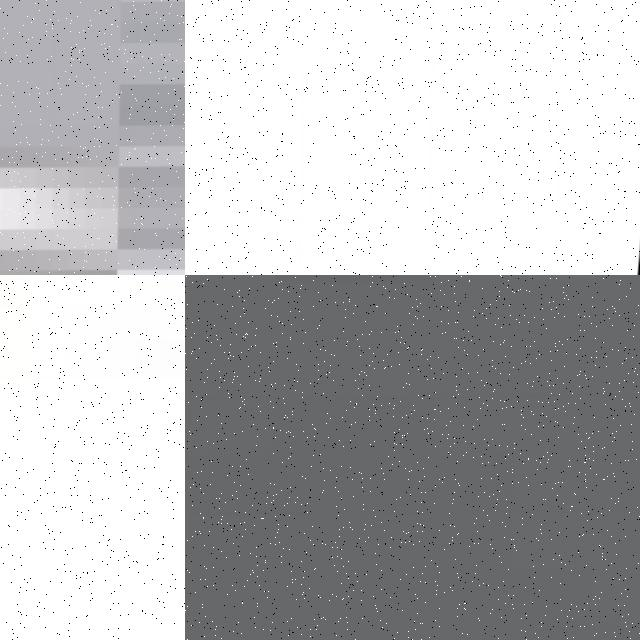drone: (185, 275, 640, 640), (185, 0, 640, 275), (0, 275, 185, 640), (0, 0, 185, 275)
